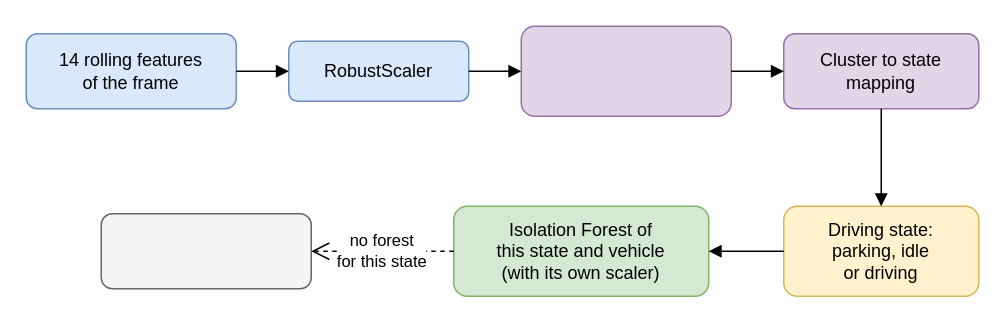
This 1005x323 diagram has some shape labels left out. Here are the shapes that lost their labels. From the top down, the centre of each, then its label:
At (x=625, y=70): "K-Means (5 clusters, shared by all vehicles)".
At (x=205, y=250): "Generic model, then a heuristic".
